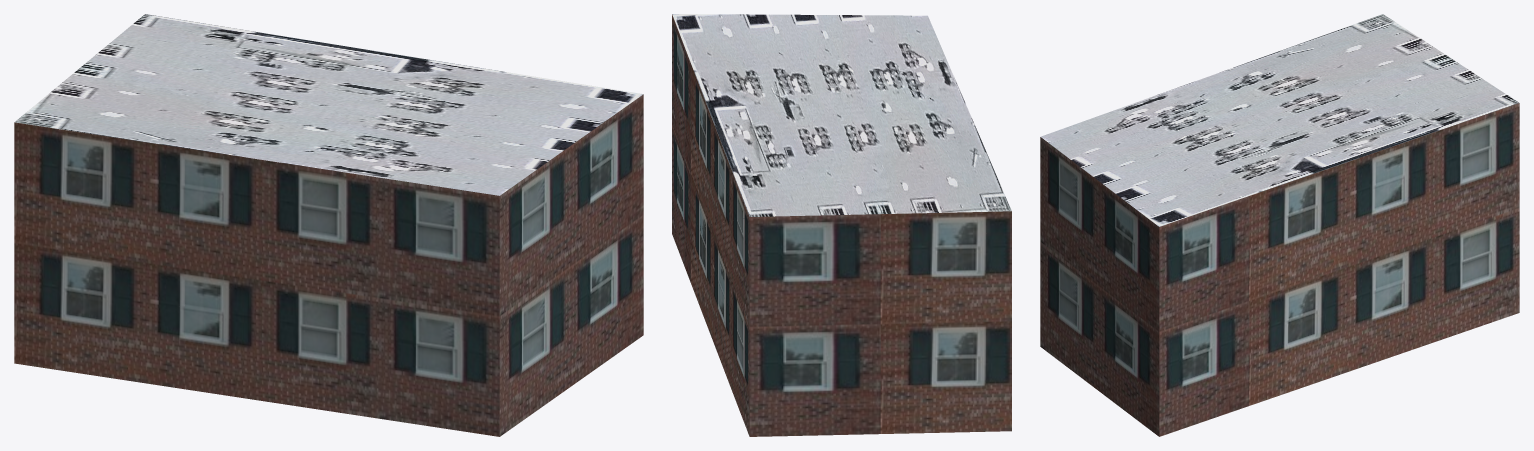
Rendered from ResTex__4774.fbx.
3 views of the same model, side by side, from view 1: azimuth 30°, elevation 25°; view 2: azimuth 150°, elevation 25°; view 3: azimuth 270°, elevation 25° (orthographic). The views are drawn at different scales.
Visible parts, largest first — view 1: CityEngineMaterial_14_m, CityEngineMaterial_m; view 2: CityEngineMaterial_14_m, CityEngineMaterial_m; view 3: CityEngineMaterial_14_m, CityEngineMaterial_m.
Boxes of the visible parts, x1,y1,x2,y2 form: CityEngineMaterial_14_m: (14, 94, 643, 436); CityEngineMaterial_m: (15, 14, 643, 195); CityEngineMaterial_14_m: (672, 14, 1011, 436); CityEngineMaterial_m: (672, 14, 1011, 216); CityEngineMaterial_14_m: (1040, 103, 1519, 436); CityEngineMaterial_m: (1040, 14, 1518, 226).
Size of the model in its own units: 13.05 by 6 by 12.41.
Materials: 2 (2 with a texture image).
